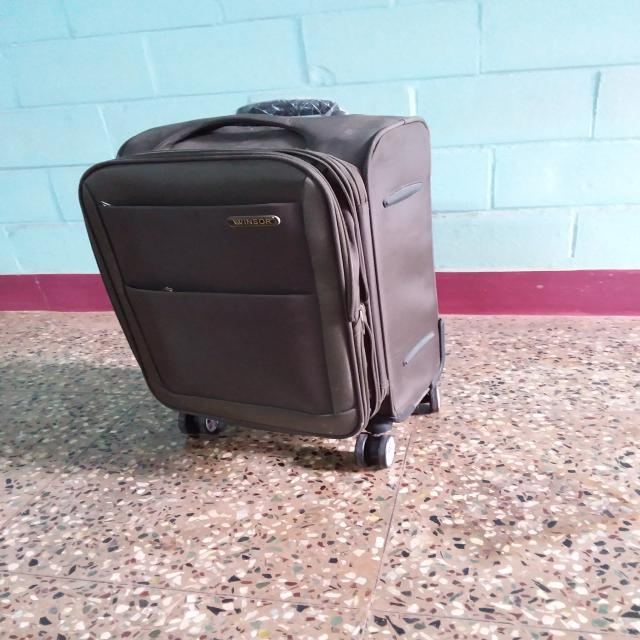suitcaserotation: (73, 96, 448, 471)
